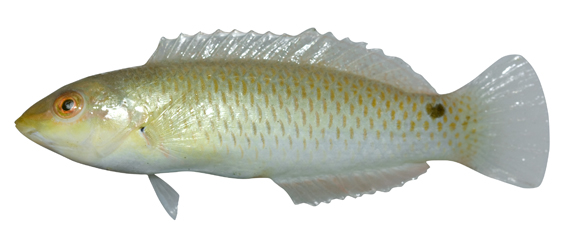fish: (15, 26, 551, 221)
